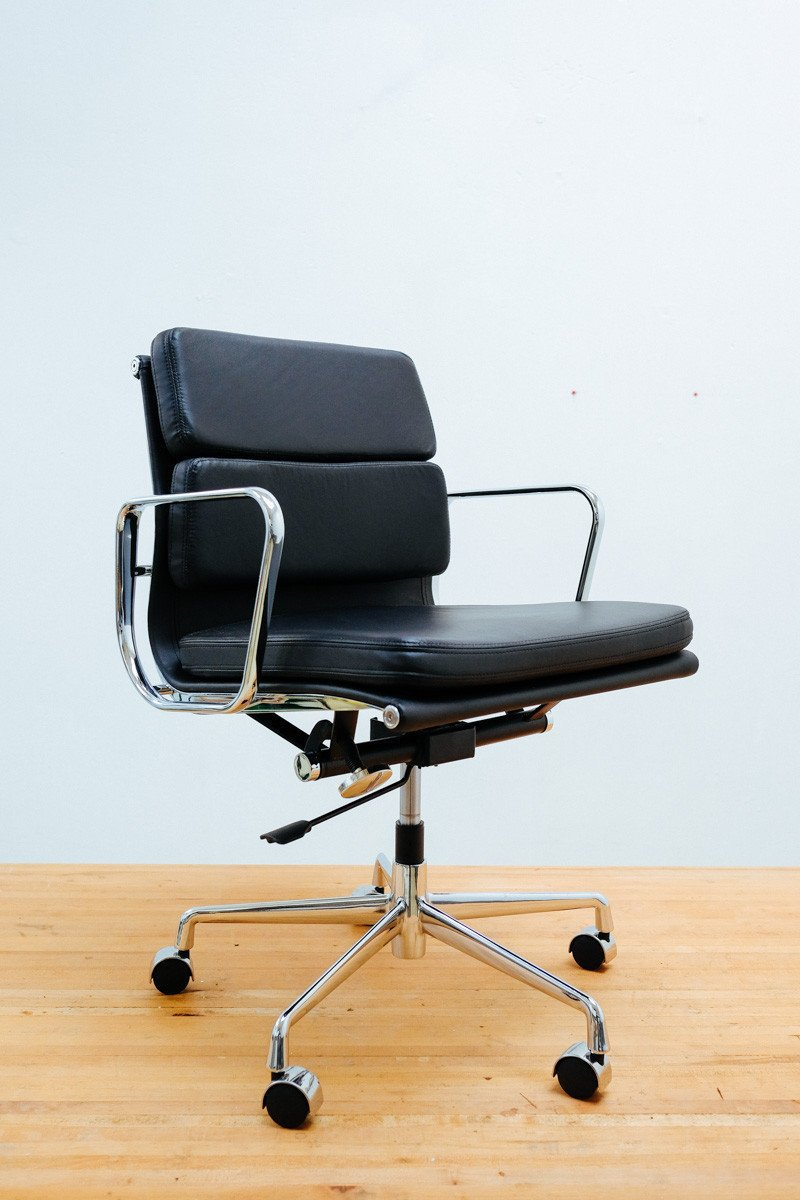chairs: (78, 324, 705, 1124)
